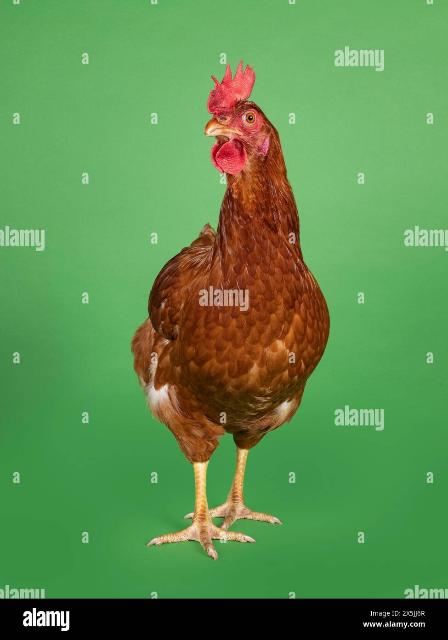Chicken: (129, 56, 335, 564)
